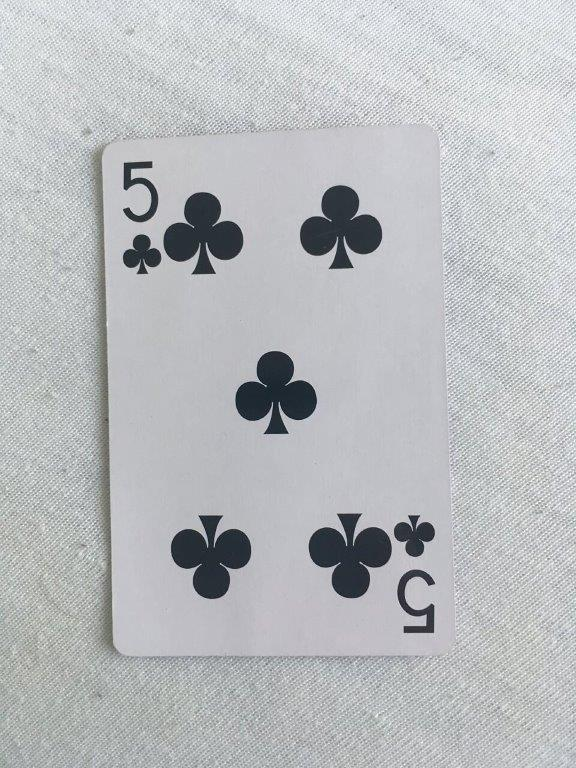5C: (97, 120, 464, 661)
